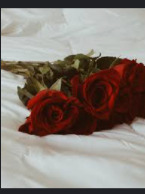RedRose: (25, 92, 81, 139), (77, 74, 126, 116), (115, 58, 145, 103)
